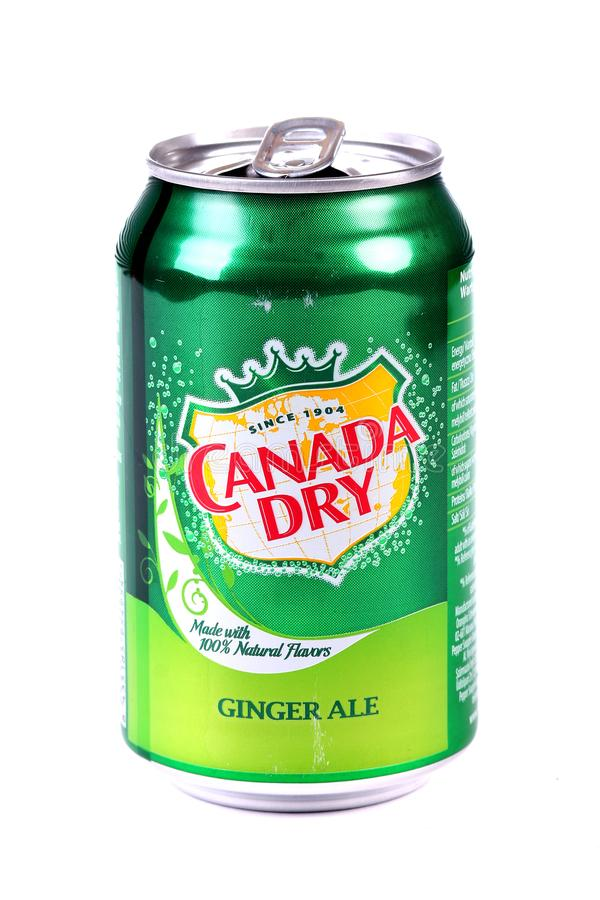Lata: (105, 111, 488, 828)
